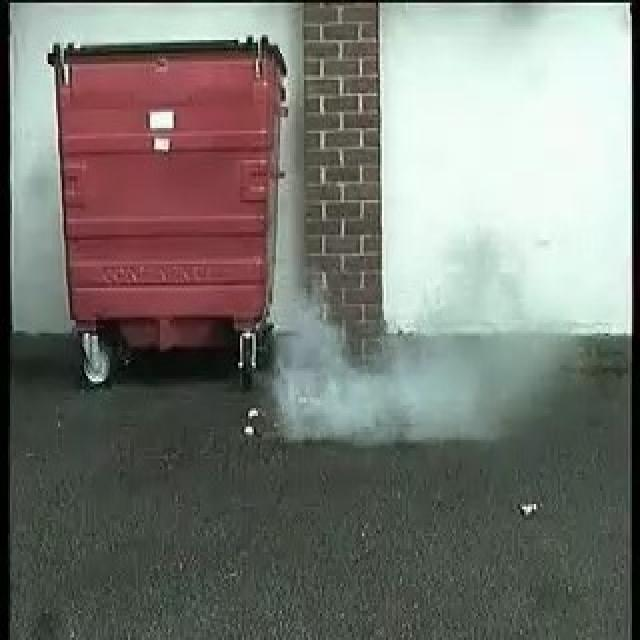smoke: (279, 305, 514, 447)
